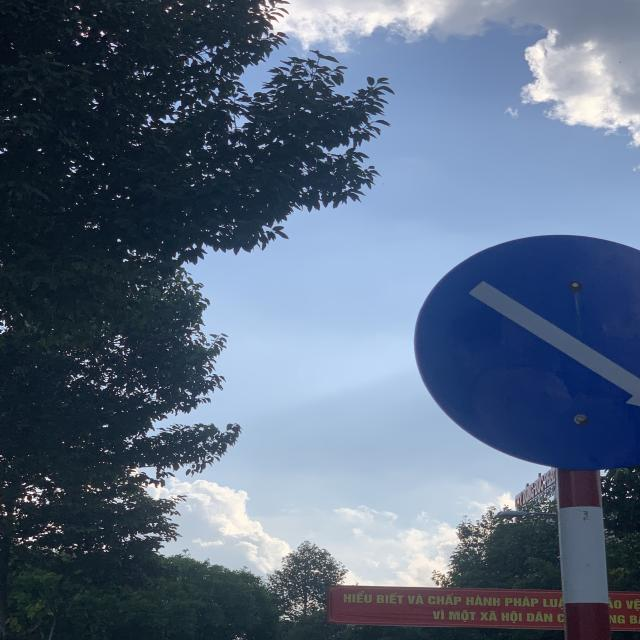Chi_Huong_Di_Phai: (417, 228, 640, 474)
